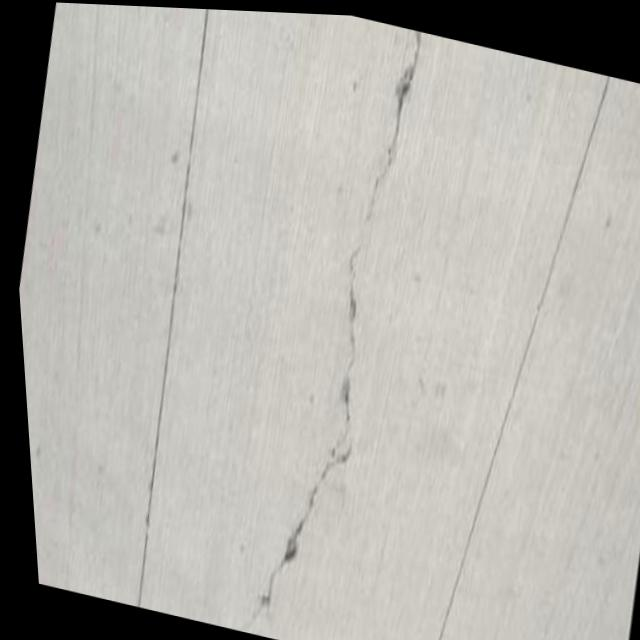Crack: (145, 5, 496, 640)
